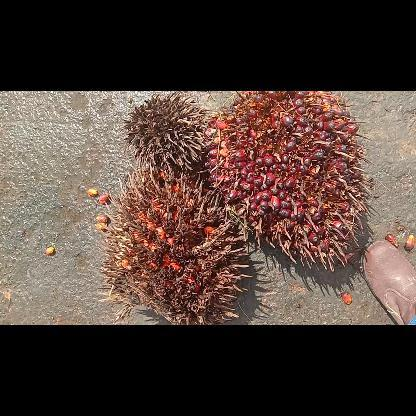Janjang kosong: (120, 91, 210, 171)
TBS masak: (204, 91, 370, 271)
Terlalu masak: (94, 164, 252, 324)
